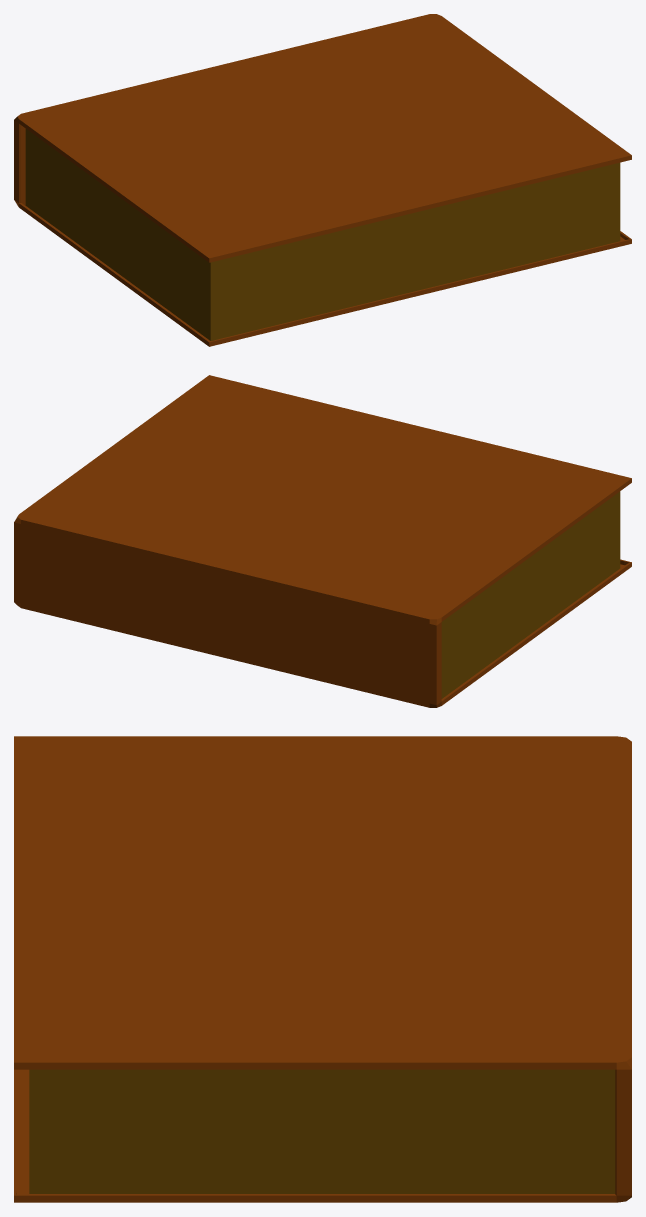
The model's file is _ook3.fbx.
3 renders of one model, top to bottom at view 1: azimuth 30°, elevation 25°; view 2: azimuth 150°, elevation 25°; view 3: azimuth 270°, elevation 25°, orthographic. The views are drawn at different scales.
Parts seen in each view (by area): view 1: Cube; view 2: Cube; view 3: Cube.
Boxes of the visible parts, x1,y1,x2,y2 form: Cube: [14, 14, 631, 346]; Cube: [14, 375, 631, 707]; Cube: [14, 736, 631, 1202].
Bounding box in the file's own units: 200 × 40 × 160.
